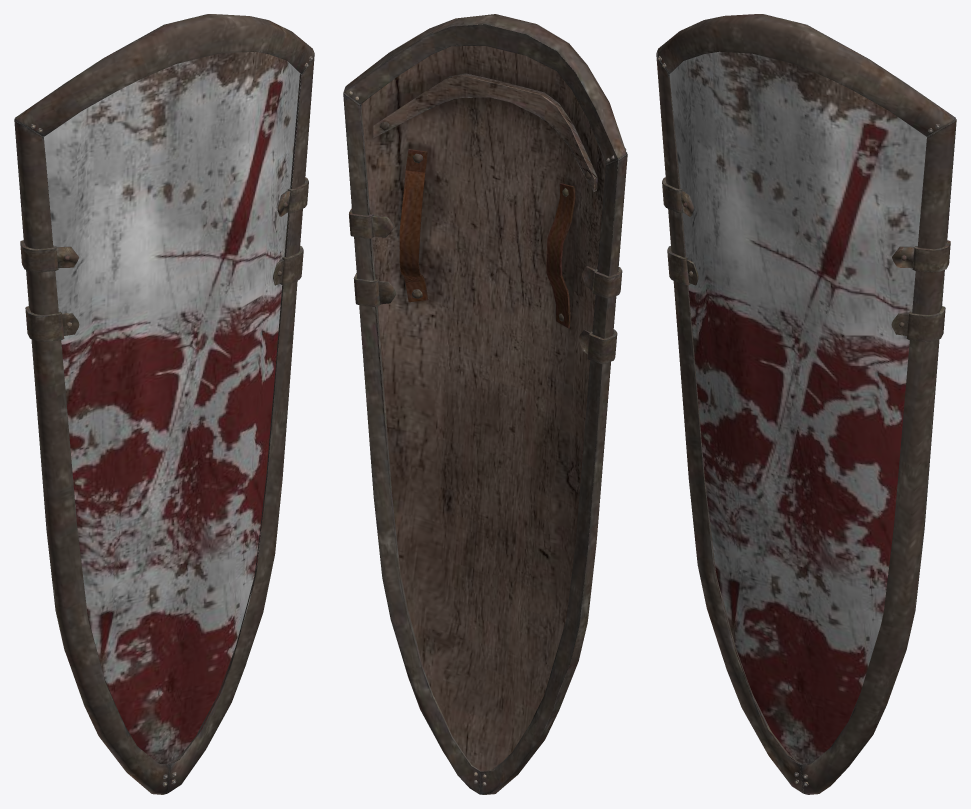
The model's file is kite_shield.glb.
The picture shows the model from 3 angles, left to right: view 1: azimuth 30°, elevation 25°; view 2: azimuth 150°, elevation 25°; view 3: azimuth 330°, elevation 25°; orthographic projection. The views are drawn at different scales.
Visible parts, largest first — view 1: kite_shield_body; view 2: kite_shield_body; view 3: kite_shield_body.
Boxes of the visible parts, x1,y1,x2,y2 form: kite_shield_body: (14,14,314,794); kite_shield_body: (343,14,627,794); kite_shield_body: (656,14,956,794).
Size of the model in its own units: 0.5441 by 1.39 by 0.1346.
2 materials, 2 textured.
